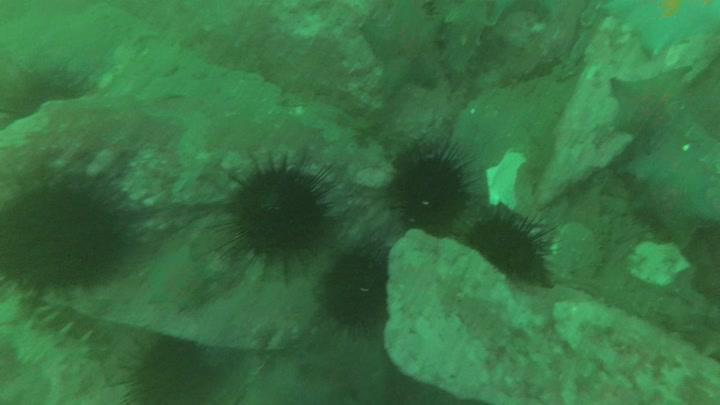urchin: (6, 172, 126, 299), (216, 156, 347, 269), (374, 144, 468, 237), (313, 243, 401, 335), (115, 329, 221, 405), (463, 207, 547, 281)
